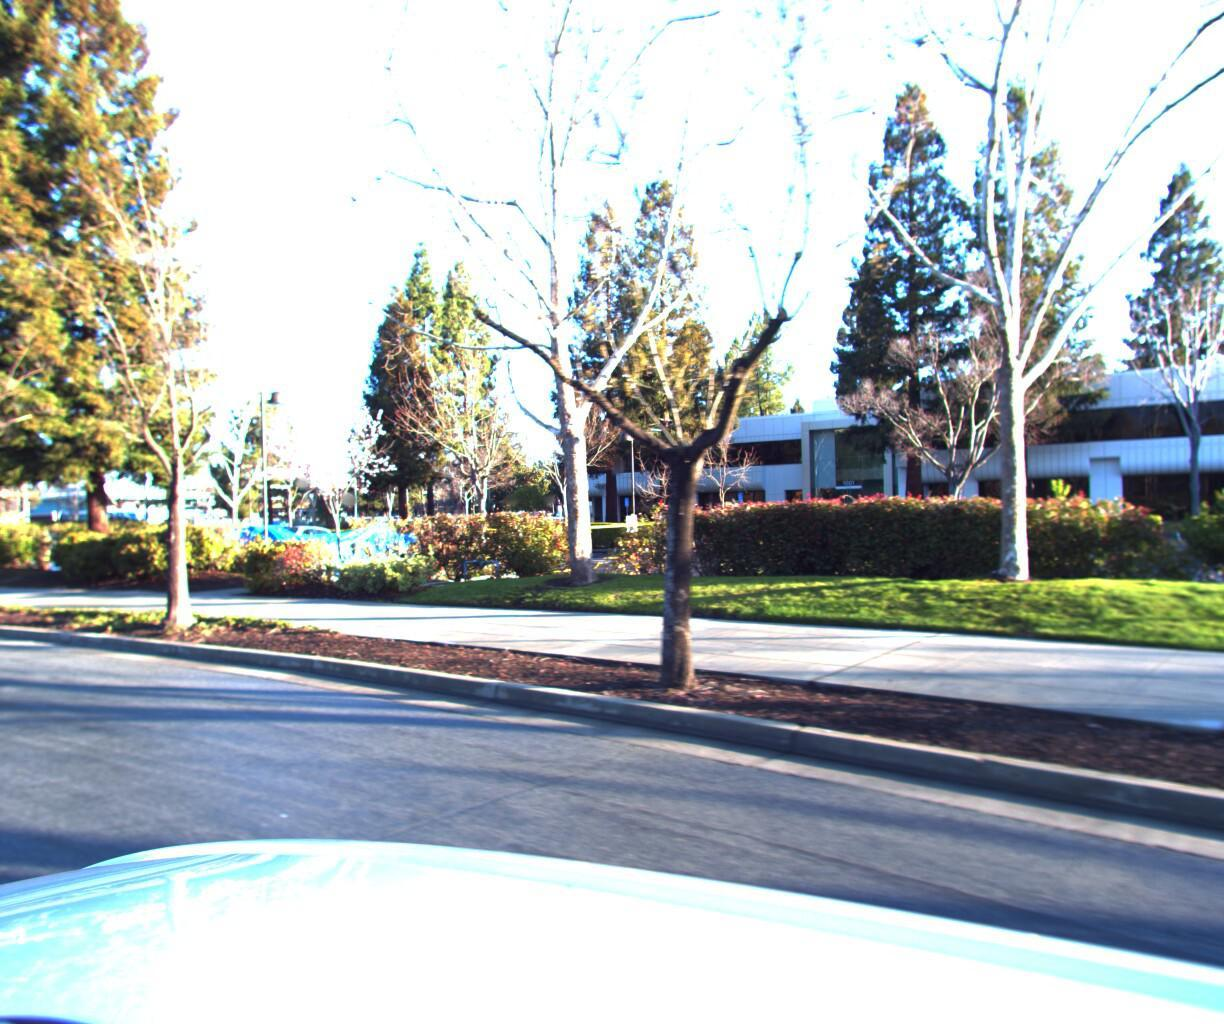other_vehicle: (0, 453, 71, 571)
